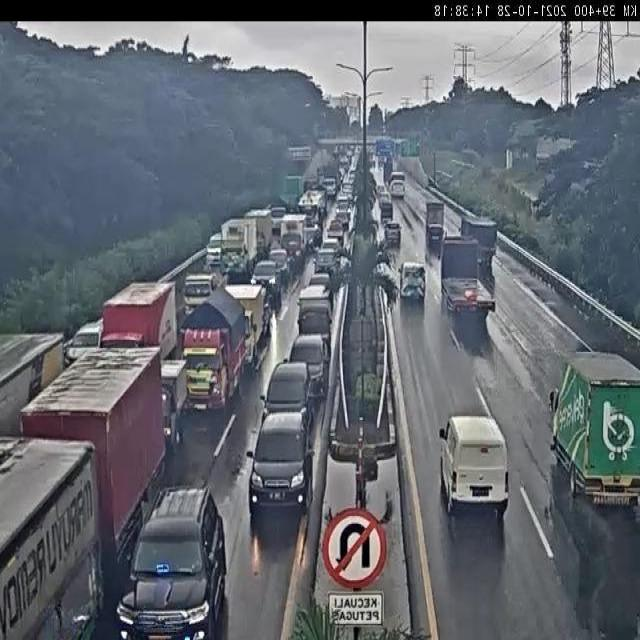Bus: (389, 171, 406, 197)
Car: (114, 490, 226, 640), (248, 406, 318, 514), (261, 361, 314, 436), (289, 332, 327, 403), (299, 284, 335, 340), (63, 320, 102, 369), (251, 258, 285, 312), (183, 273, 218, 313), (314, 246, 338, 276), (307, 270, 333, 297), (205, 234, 224, 268), (326, 219, 346, 251), (302, 223, 322, 253), (376, 187, 392, 218), (384, 221, 402, 247), (332, 207, 350, 232), (337, 253, 351, 281)
Truck: (34, 349, 164, 526), (0, 441, 109, 640), (545, 360, 639, 514), (179, 286, 253, 414), (0, 334, 66, 440), (100, 282, 180, 361), (439, 235, 496, 327), (220, 214, 273, 281), (460, 216, 498, 275), (280, 213, 308, 260), (298, 190, 326, 232), (425, 200, 445, 250), (316, 166, 339, 200), (283, 175, 305, 208), (267, 210, 286, 242)
Van: (436, 416, 514, 522), (399, 261, 426, 305)
